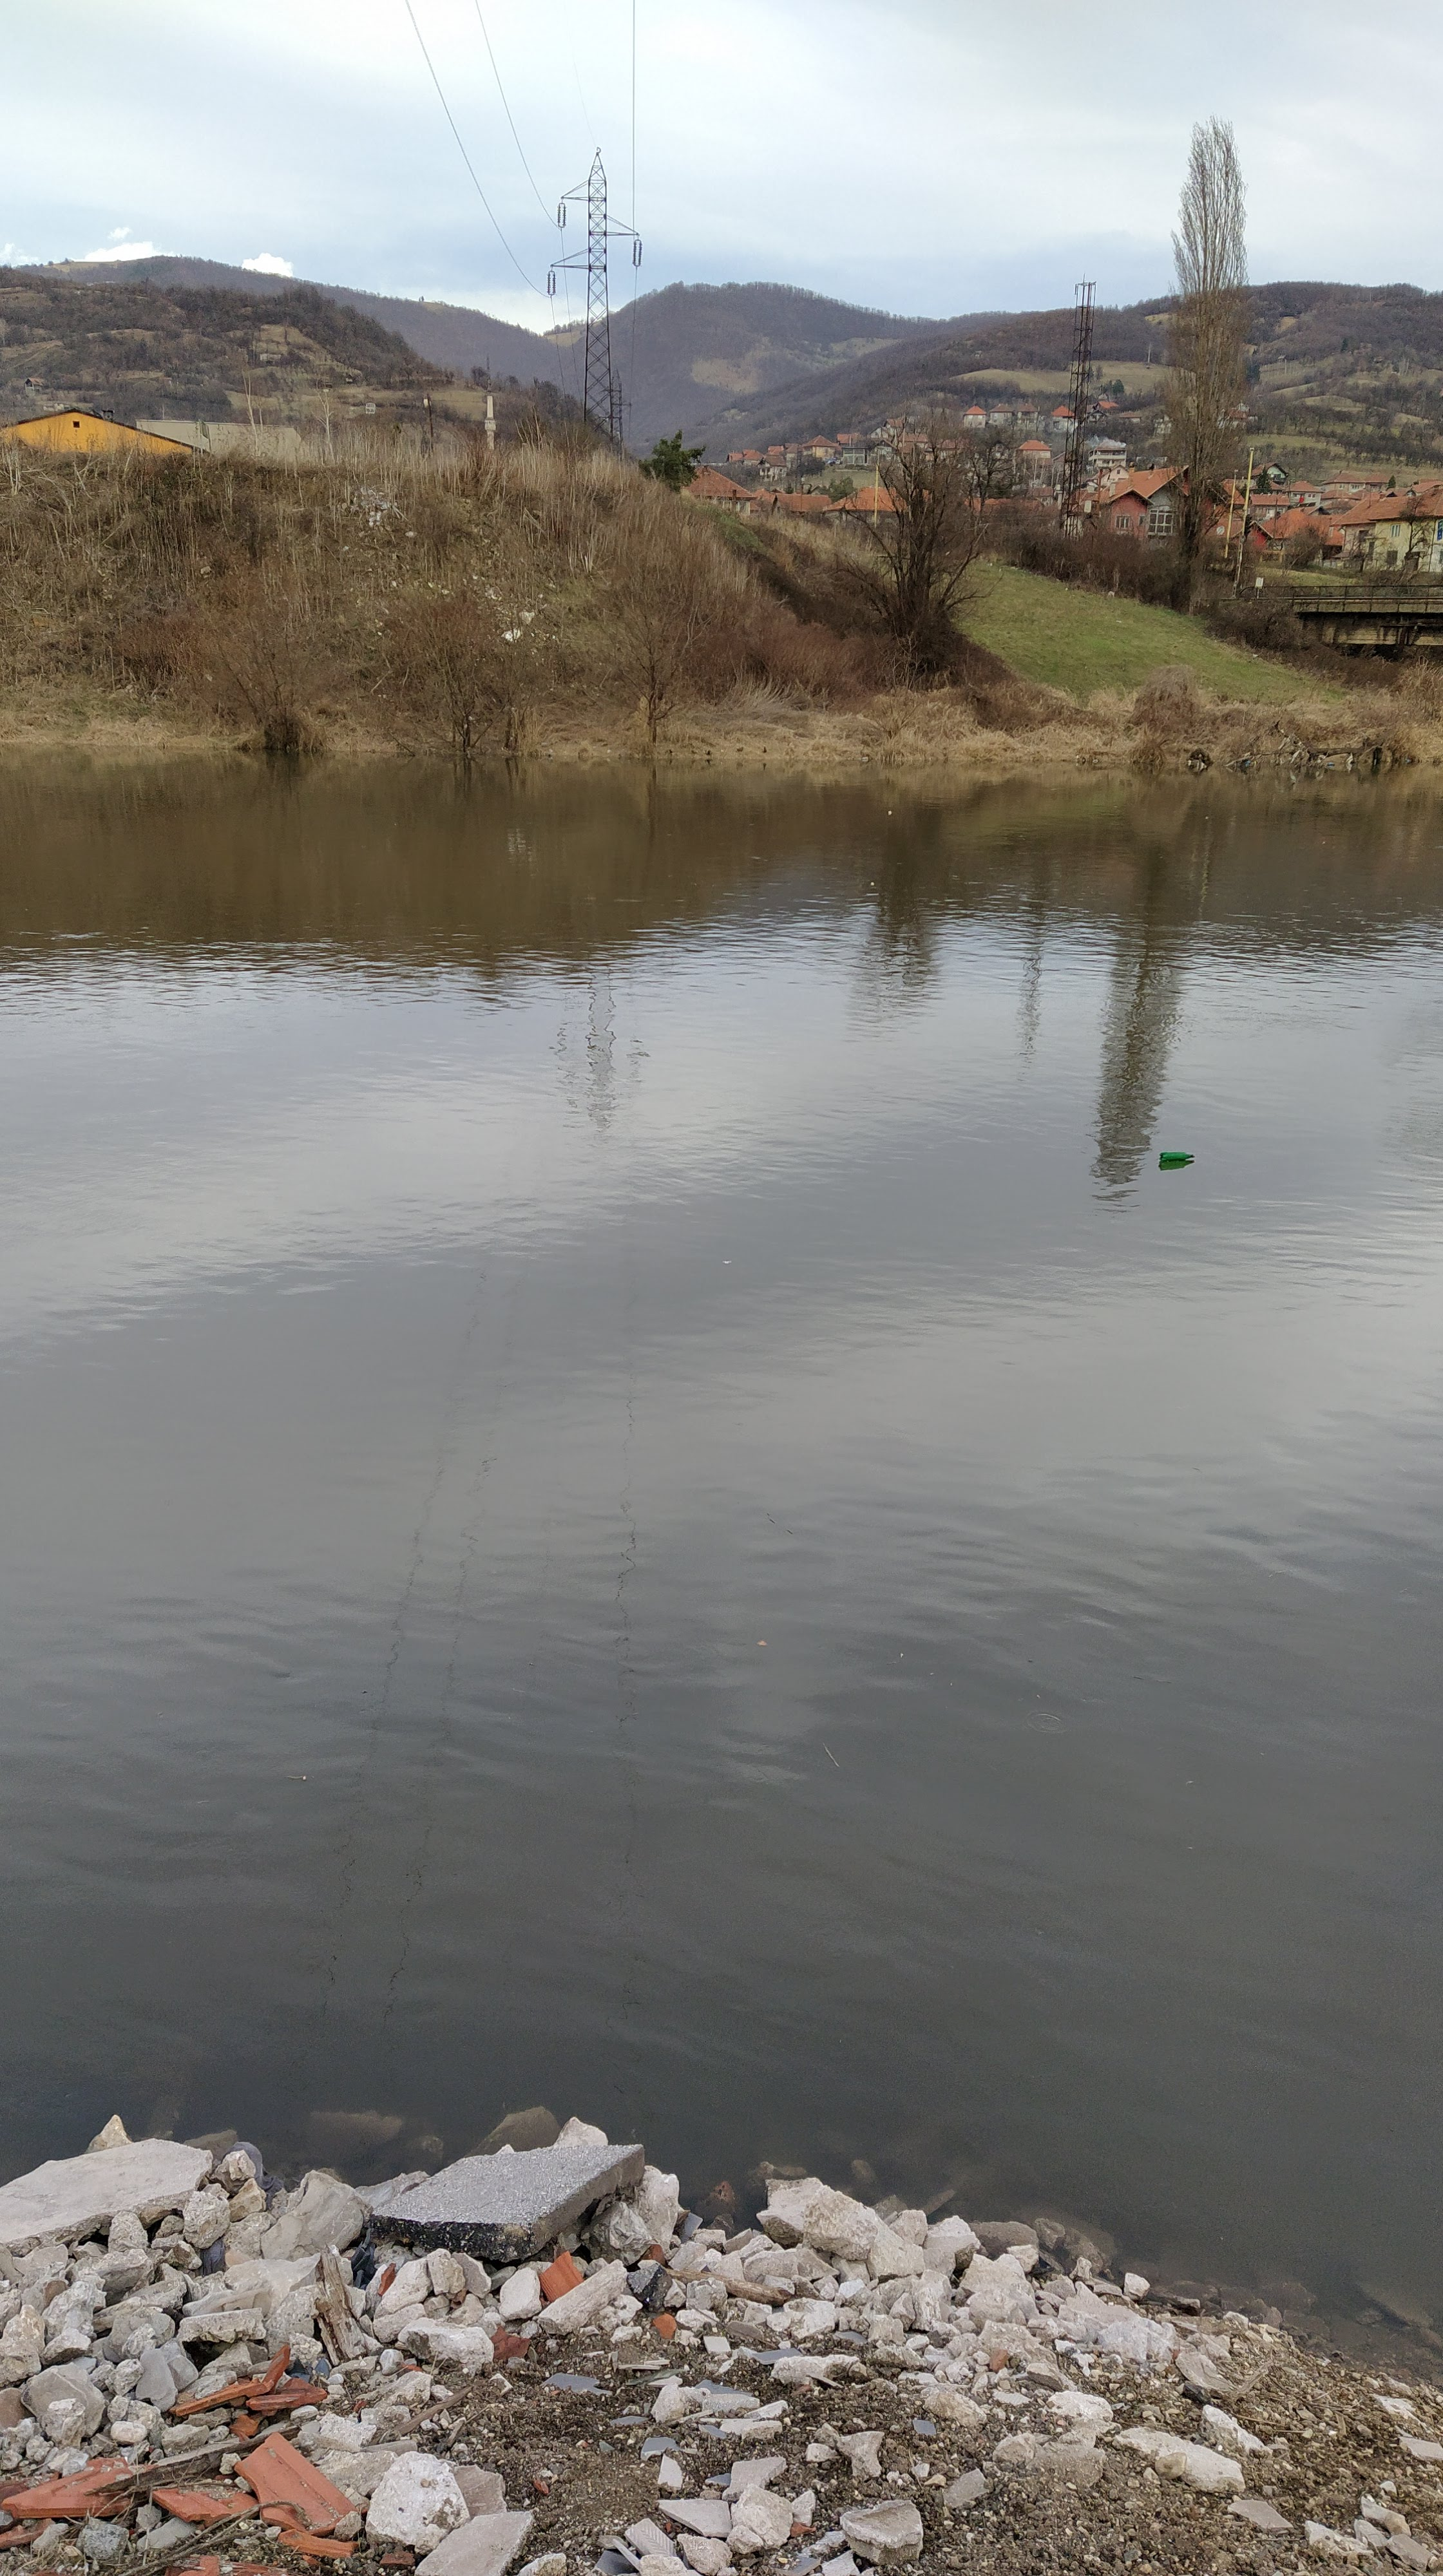Plastic Bottle: (1160, 1150, 1195, 1161), (862, 755, 868, 761), (1328, 763, 1333, 766)
